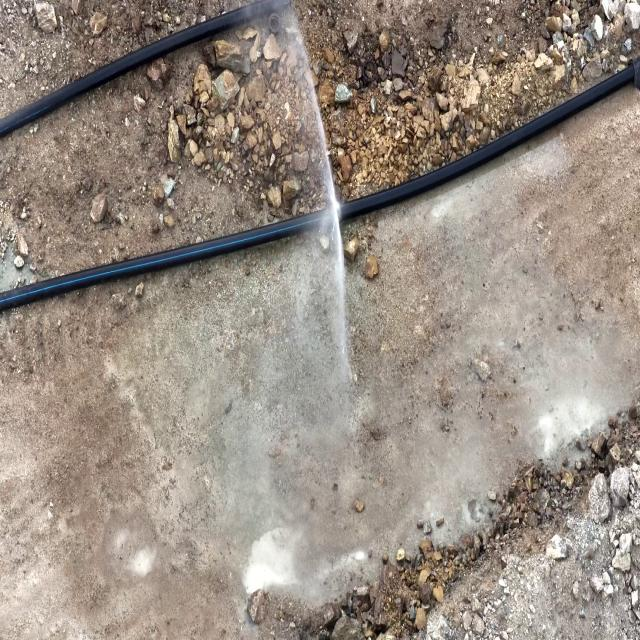leak: (295, 24, 353, 378)
